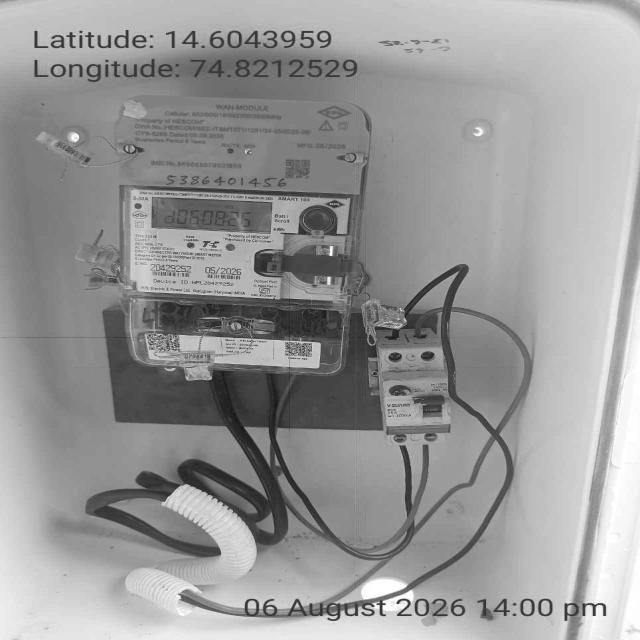meter: (126, 95, 373, 298)
